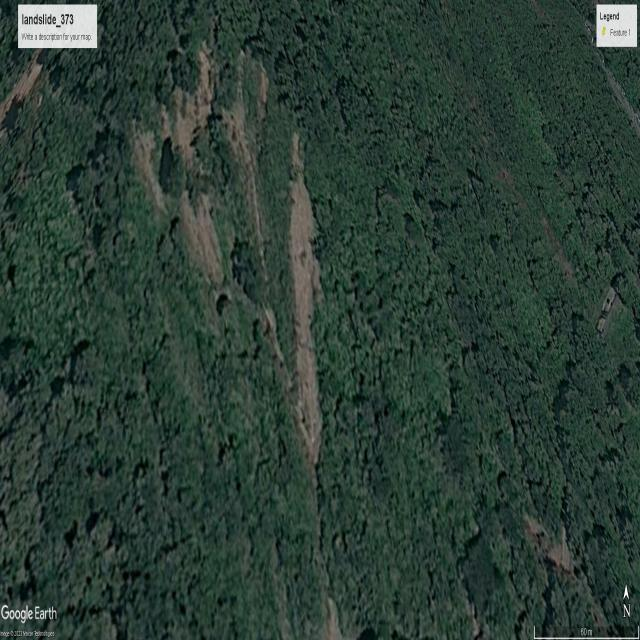Landslide: (278, 135, 334, 459)
